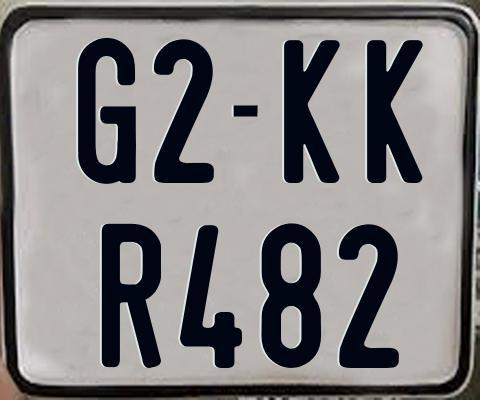2: (336, 224, 397, 369), (152, 38, 212, 185)
4: (180, 225, 243, 371)
8: (259, 220, 319, 366)
G: (77, 35, 138, 182)
K: (364, 40, 426, 187), (284, 38, 346, 181)
R: (102, 221, 165, 368)
